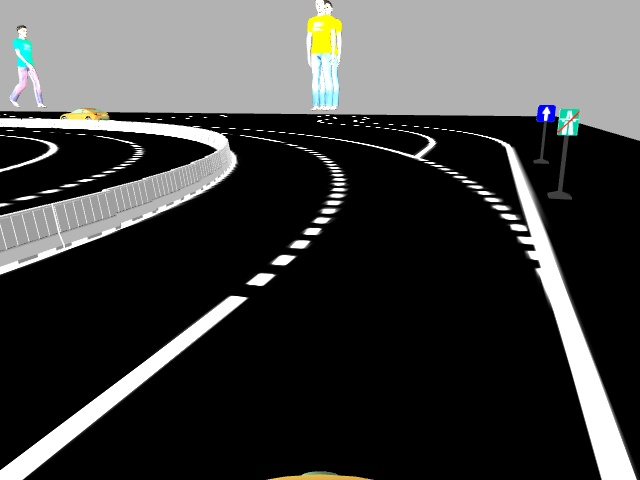HighwayExit: (559, 107, 578, 135)
OneWay: (537, 104, 555, 122)
